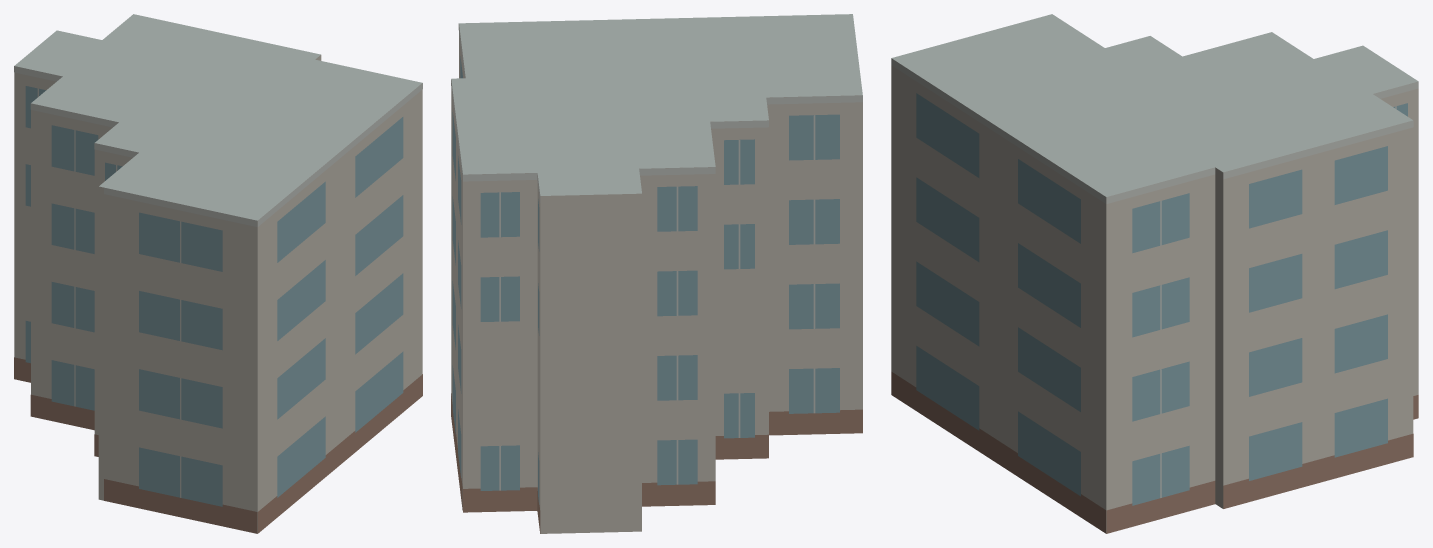
File: survey-upis-32978153.glb
The picture shows the model from 3 angles, left to right: view 1: azimuth 30°, elevation 25°; view 2: azimuth 150°, elevation 25°; view 3: azimuth 270°, elevation 25°; orthographic projection. The views are drawn at different scales.
Parts seen in each view (by area): view 1: survey-upis-32978153.tmp; view 2: survey-upis-32978153.tmp; view 3: survey-upis-32978153.tmp.
Boxes of the visible parts, x1,y1,x2,y2 form: survey-upis-32978153.tmp: (14,14,422,533); survey-upis-32978153.tmp: (451,14,862,533); survey-upis-32978153.tmp: (891,14,1418,533).
Size of the model in its own units: 13.66 by 11.7 by 16.62.
